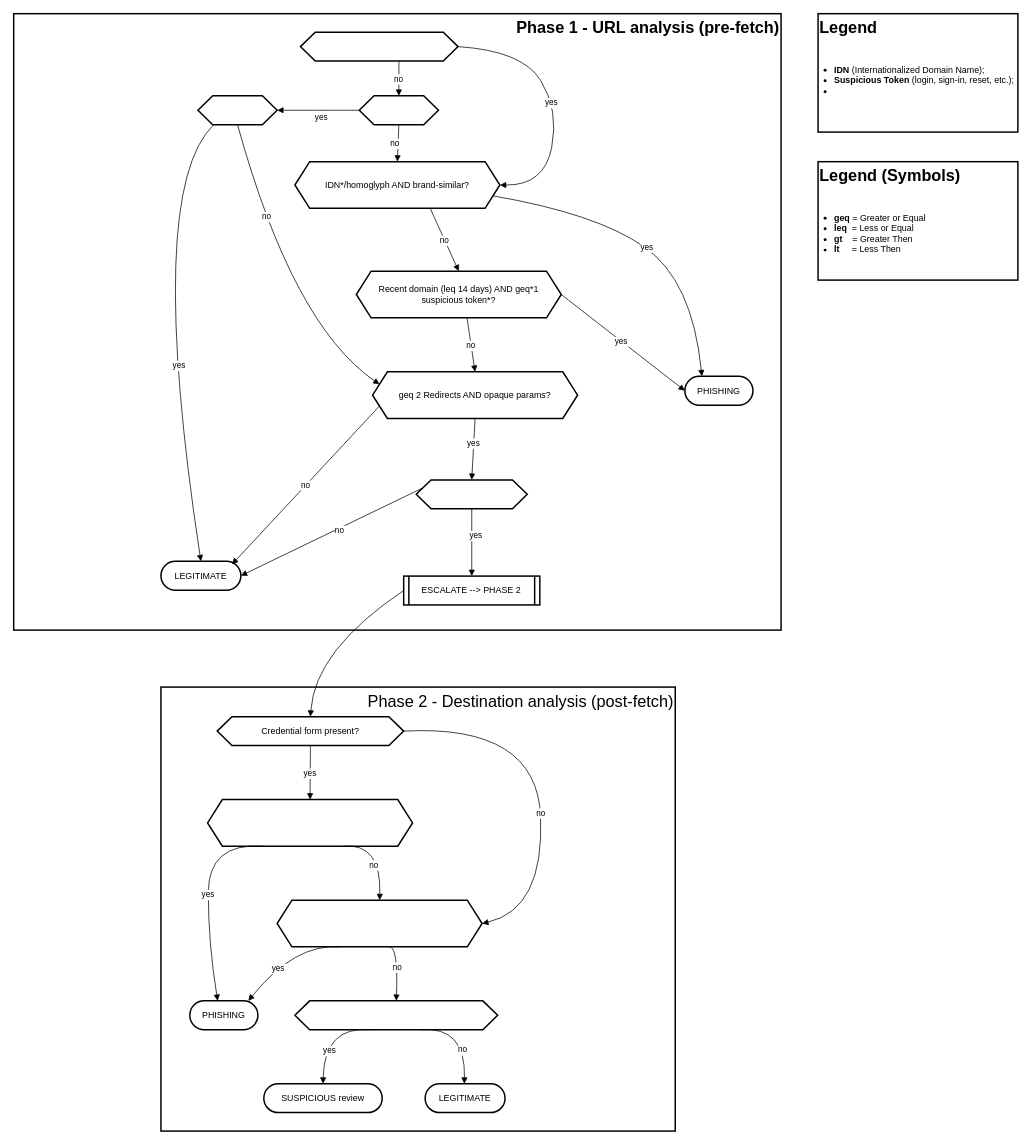
This 1031x1144 diagram has some shape labels left out. The shapes that lost their labels are listed below. From the top down, each one's centre as x and y in pixels, then its label:
At point (378, 46): "Whitelisted domain?".
At point (237, 110): "Whitelisted IP host?".
At point (398, 110): "IP host?".
At point (471, 494): "Internal context?".
At point (309, 822): "Exfil endpoints or high brand similarity?".
At point (379, 923): "High visual brand similarity?".
At point (396, 1015): "Obfuscated or auto-submit?".
